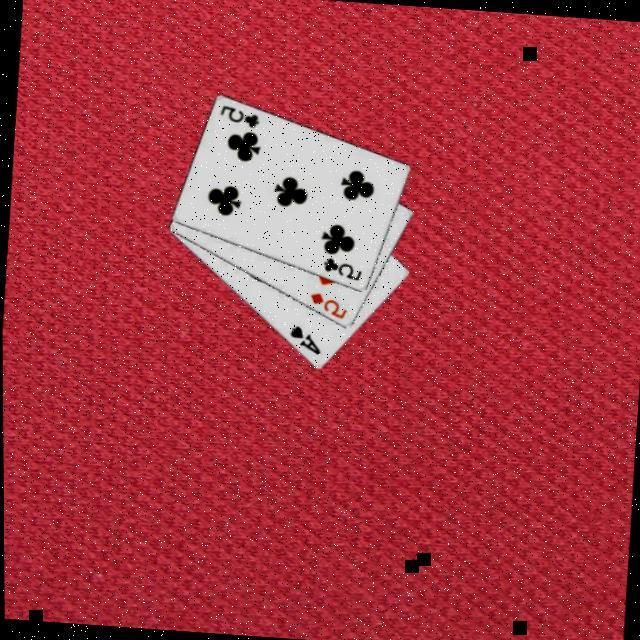5C: (214, 101, 261, 130), (316, 253, 362, 282)
5D: (303, 288, 348, 321)
AS: (282, 321, 322, 357)
